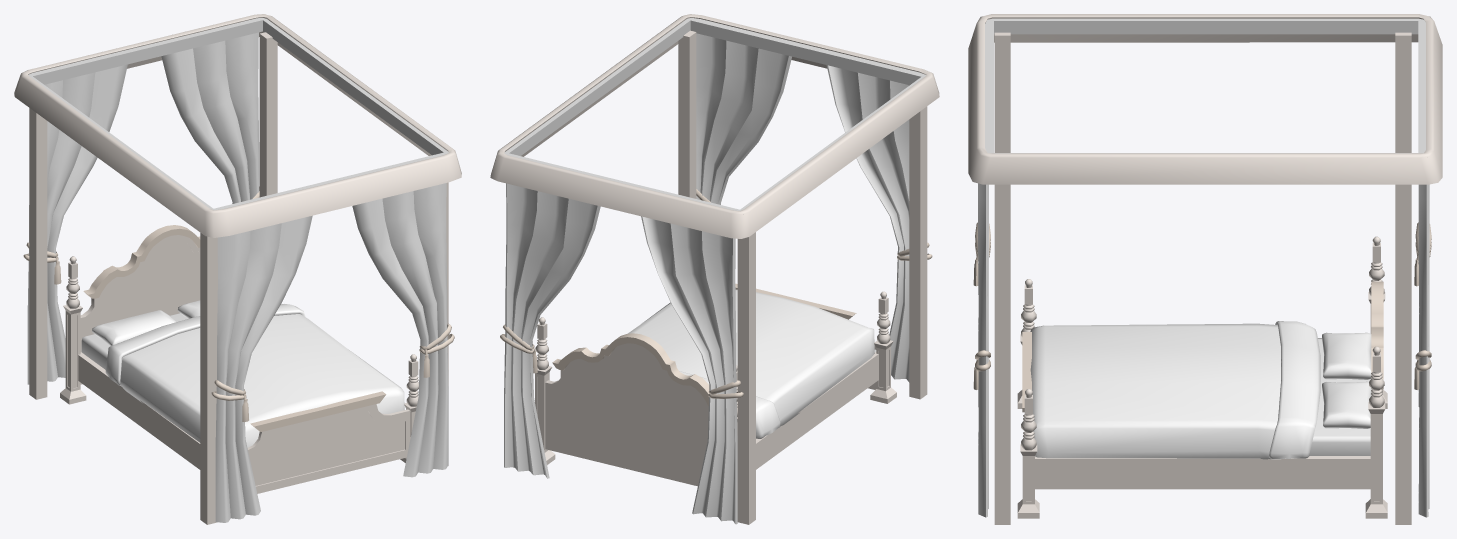
Rendered from Bed_A.fbx.
3 renders of one model, left to right at view 1: azimuth 30°, elevation 25°; view 2: azimuth 150°, elevation 25°; view 3: azimuth 270°, elevation 25°, orthographic. The views are drawn at different scales.
Visible parts, largest first — view 1: polySurface23, polySurface40, polySurface1, polySurface27.001, polySurface19, polySurface20.001, polySurface28.001, polySurface12.001, polySurface38, polySurface32.001; view 2: polySurface23, polySurface40, polySurface27.001, polySurface1, polySurface19, polySurface20.001, polySurface28.001, polySurface38; view 3: polySurface1, polySurface40, polySurface3, polySurface19, polySurface23, polySurface20.001, polySurface32.001, polySurface38, polySurface28.001, polySurface12.001.
Part boxes in pixels (left/top/right/bottom): polySurface23: left=27, top=32, right=448, bottom=522; polySurface40: left=14, top=14, right=461, bottom=524; polySurface1: left=92, top=300, right=404, bottom=447; polySurface27.001: left=78, top=235, right=410, bottom=493; polySurface19: left=28, top=17, right=448, bottom=210; polySurface20.001: left=60, top=256, right=418, bottom=462; polySurface28.001: left=83, top=225, right=200, bottom=298; polySurface12.001: left=250, top=391, right=386, bottom=431; polySurface38: left=23, top=186, right=454, bottom=422; polySurface32.001: left=81, top=313, right=187, bottom=369; polySurface23: left=504, top=33, right=909, bottom=524; polySurface40: left=490, top=14, right=939, bottom=524; polySurface27.001: left=545, top=343, right=878, bottom=486; polySurface1: left=627, top=289, right=874, bottom=438; polySurface19: left=504, top=17, right=925, bottom=214; polySurface20.001: left=535, top=291, right=896, bottom=464; polySurface28.001: left=552, top=333, right=709, bottom=405; polySurface38: left=500, top=189, right=932, bottom=398; polySurface1: left=1030, top=321, right=1371, bottom=459; polySurface40: left=968, top=14, right=1442, bottom=524; polySurface3: left=1035, top=456, right=1370, bottom=489; polySurface19: left=985, top=18, right=1425, bottom=153; polySurface23: left=978, top=183, right=1429, bottom=517; polySurface20.001: left=1017, top=236, right=1387, bottom=518; polySurface32.001: left=1309, top=338, right=1370, bottom=455; polySurface38: left=973, top=222, right=1431, bottom=389; polySurface28.001: left=1371, top=281, right=1383, bottom=389; polySurface12.001: left=1022, top=332, right=1031, bottom=412.
Size of the model in its own units: 171 by 201 by 232.
